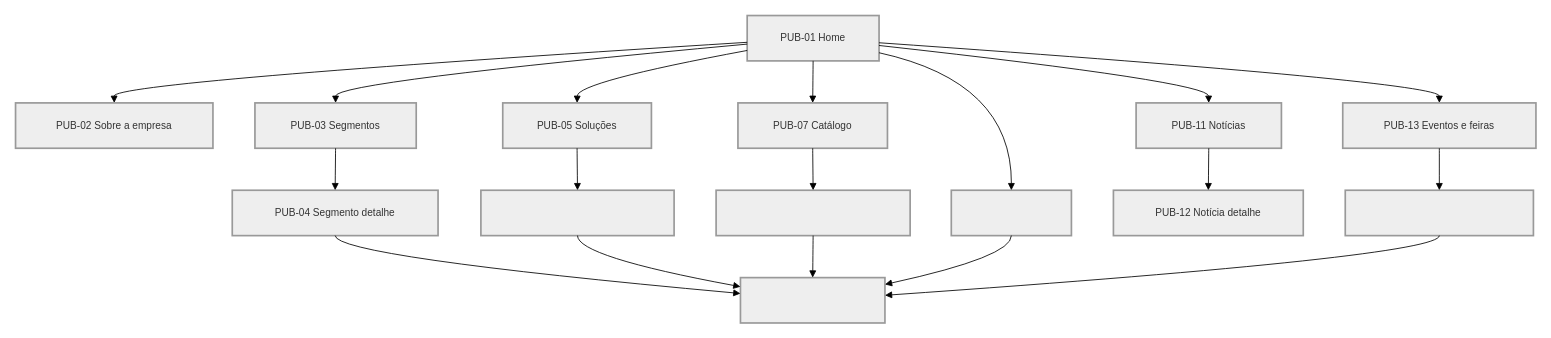
Some shapes in this 1551 by 338 pixel diagram are drawn without their labels. The centre of each missing label's shape, as x and y in pixels:
"PUB-06 Solução detalhe" belongs at pixel 577 212.
"PUB-08 Produto detalhe" belongs at pixel 813 212.
"PUB-09 FAQ" belongs at pixel 1011 212.
"PUB-10 Contato" belongs at pixel 812 299.
"PUB-14 Evento detalhe" belongs at pixel 1439 212.
